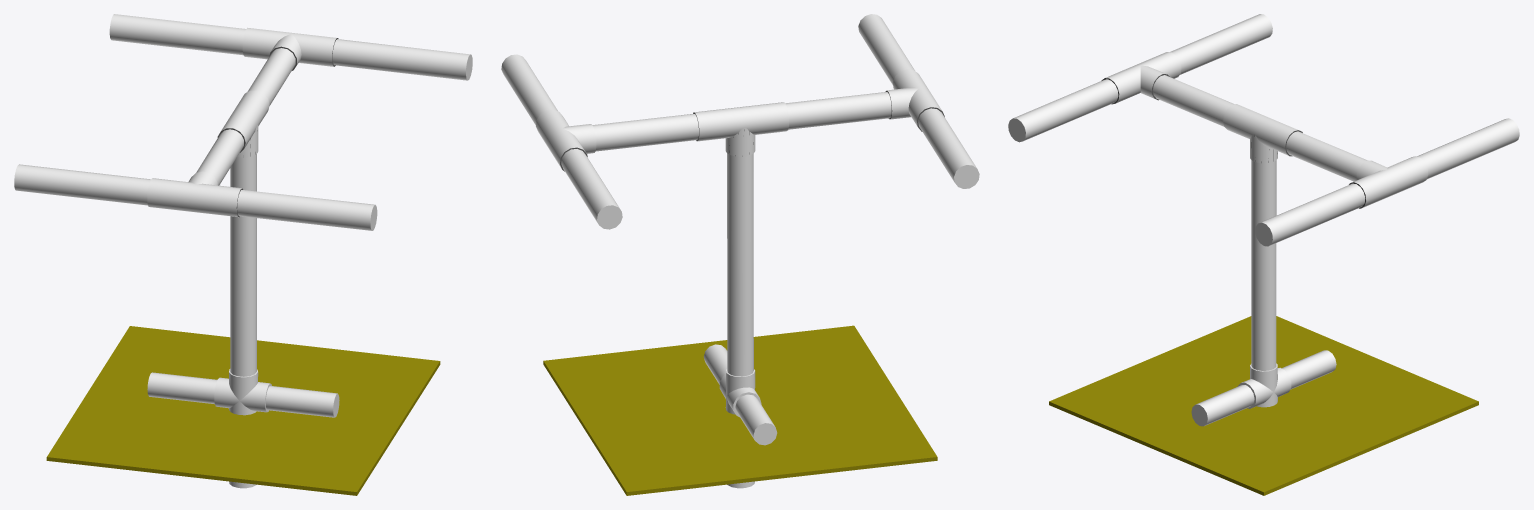
File: crucifix_holder.obj
3 renders of one model, left to right at view 1: azimuth 30°, elevation 25°; view 2: azimuth 150°, elevation 25°; view 3: azimuth 270°, elevation 25°, orthographic. The views are drawn at different scales.
Visible parts, largest first — view 1: Bryła4, Bryła3; view 2: Bryła4, Bryła3, Bryła2; view 3: Bryła4, Bryła3.
Boxes of the visible parts, <box> form: Bryła4: <box>46,326,440,495</box>; Bryła3: <box>14,14,472,488</box>; Bryła4: <box>543,325,937,495</box>; Bryła3: <box>501,14,979,488</box>; Bryła2: <box>725,128,755,156</box>; Bryła4: <box>1049,316,1478,495</box>; Bryła3: <box>1008,14,1519,426</box>.
Size of the model in its own units: 513 by 391 by 513.
